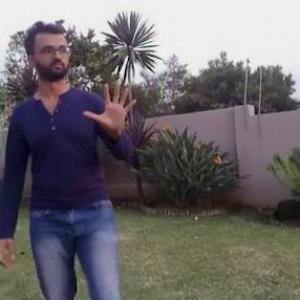follow_hand: (82, 76, 140, 134)
